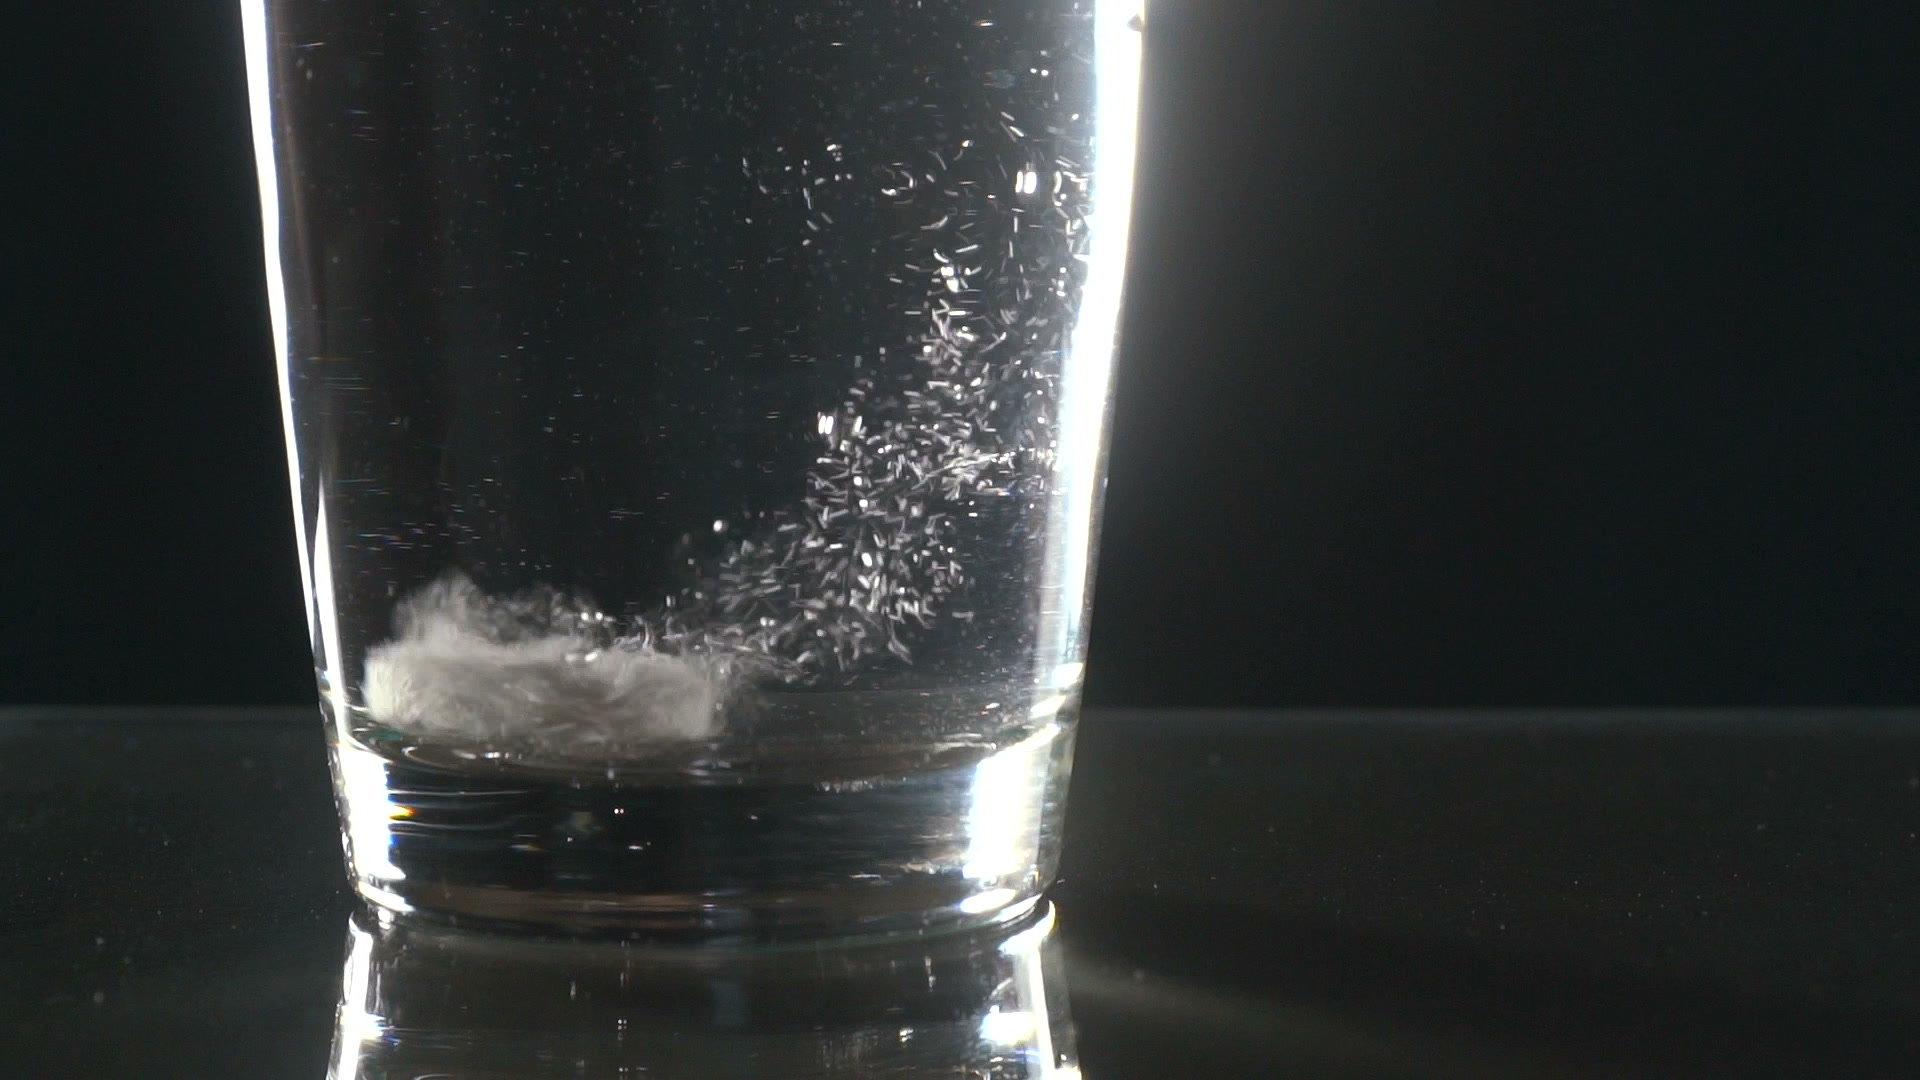glass of water: (233, 1, 1110, 924)
